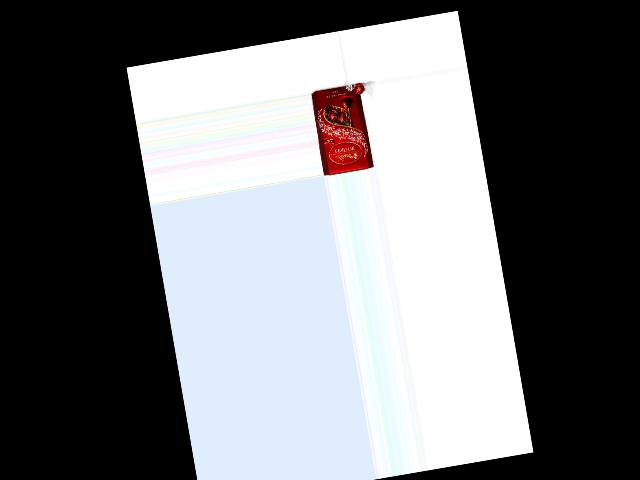chocolate: (310, 82, 378, 175)
